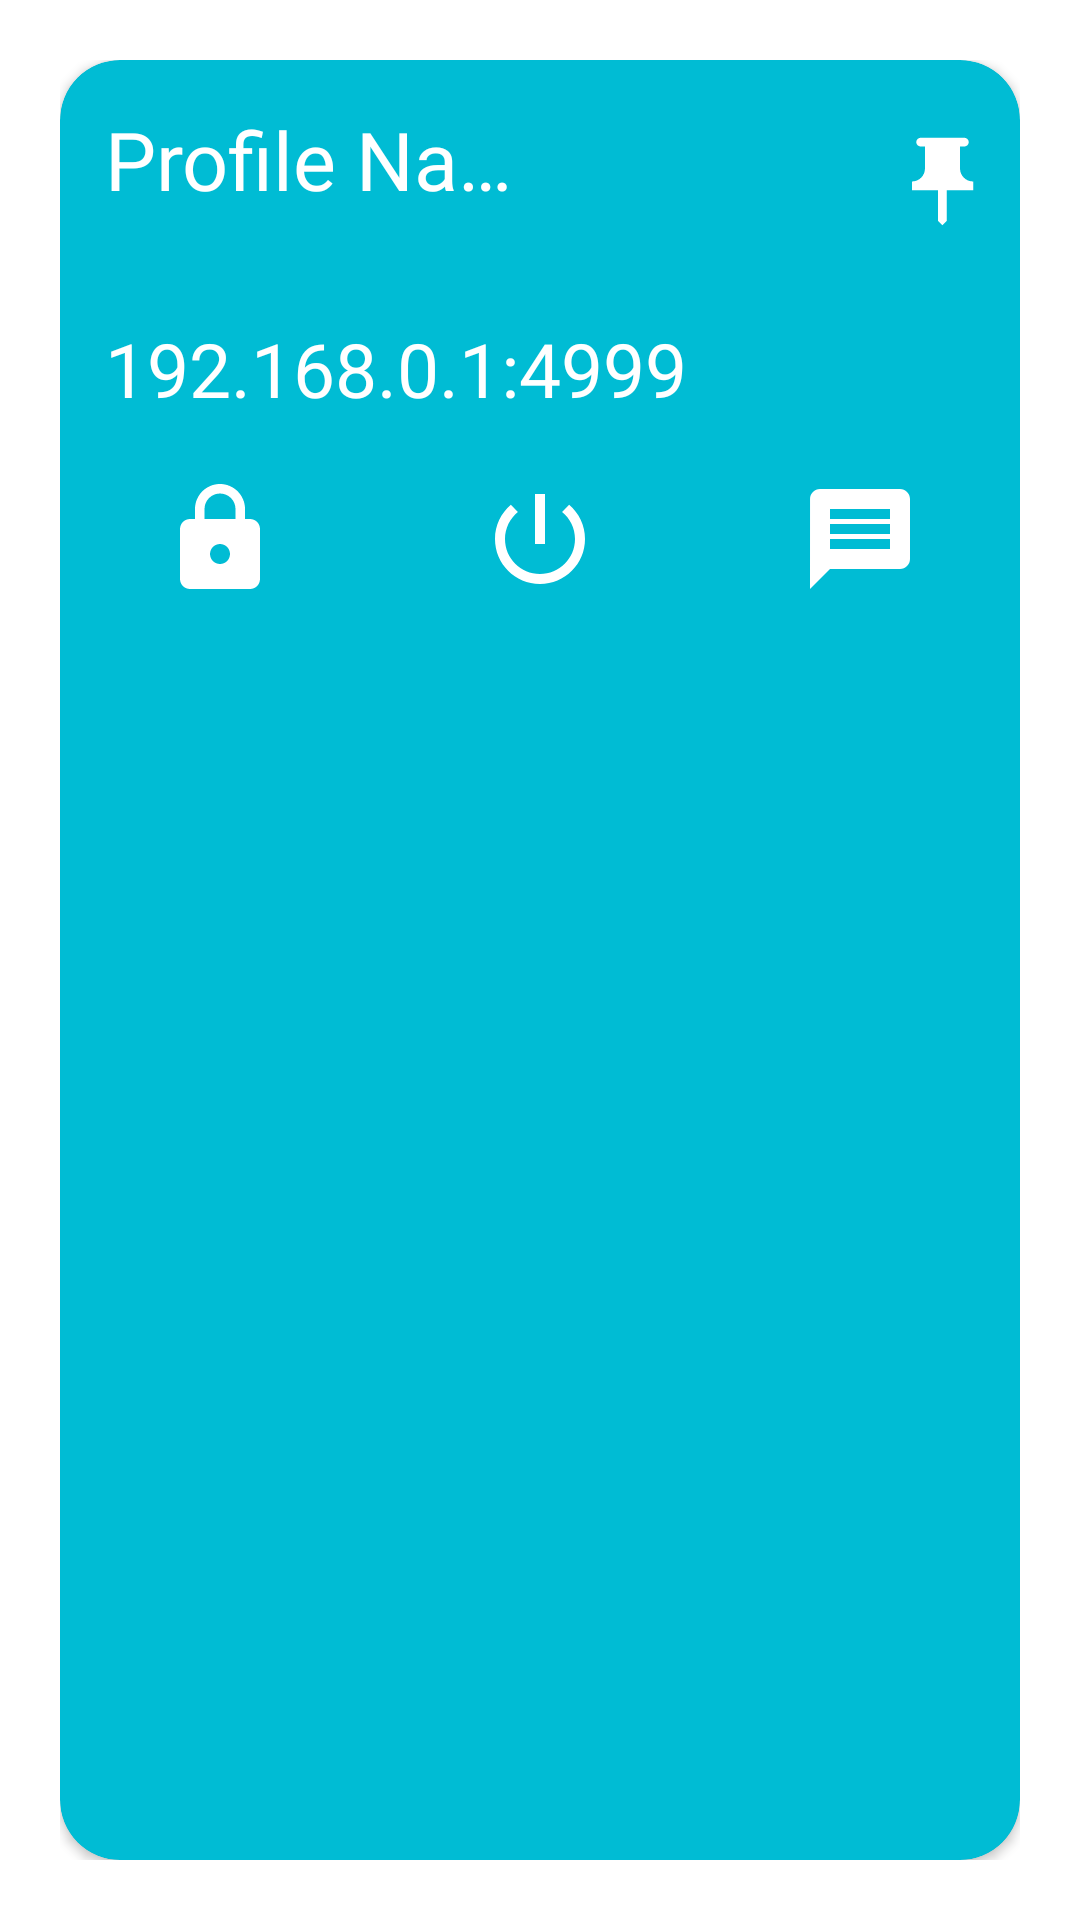

Where icons sit on this 1080px×1920px app screen, as (x1, y1, x2, y2):
lock: (180, 484, 260, 589)
message: (810, 489, 910, 589)
pin: (912, 137, 974, 225)
power: (495, 494, 585, 584)
